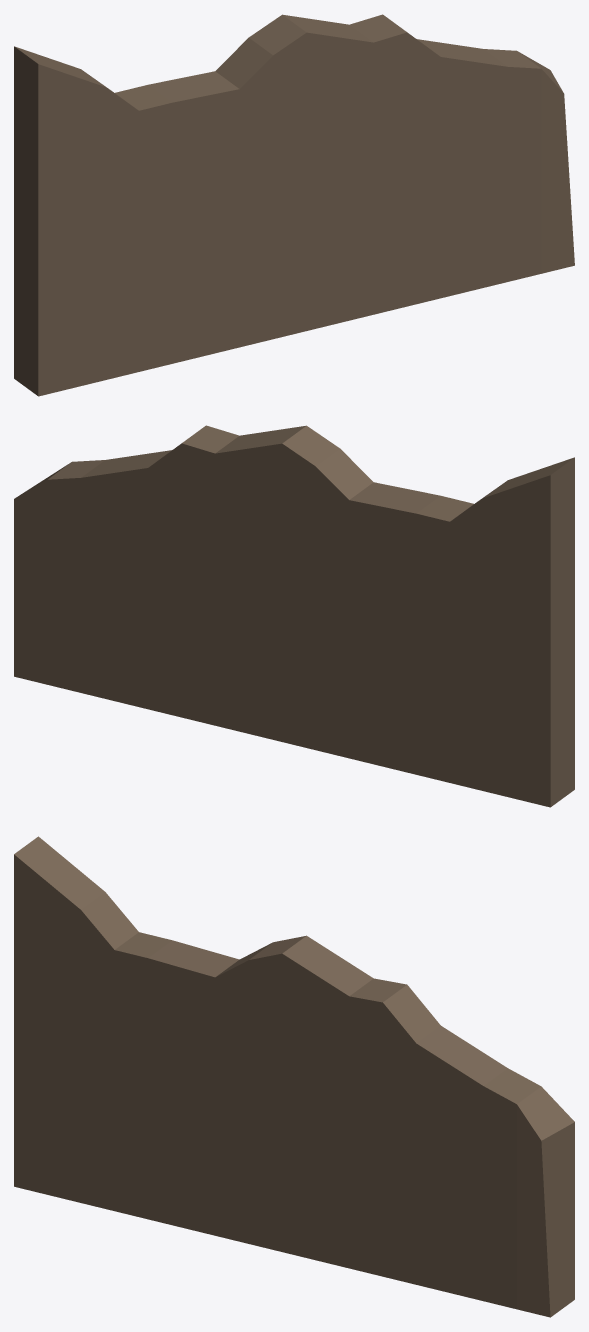
3 views of the same model, one above another, from view 1: azimuth 30°, elevation 25°; view 2: azimuth 150°, elevation 25°; view 3: azimuth 330°, elevation 25° (orthographic).
Parts seen in each view (by area): view 1: Cube.053; view 2: Cube.053; view 3: Cube.053.
Part boxes in pixels (<box>): Cube.053: <box>14,14,574,396</box>; Cube.053: <box>14,425,574,807</box>; Cube.053: <box>14,836,574,1317</box>.
Size of the model in its own units: 2.57 by 1.52 by 0.2032.
